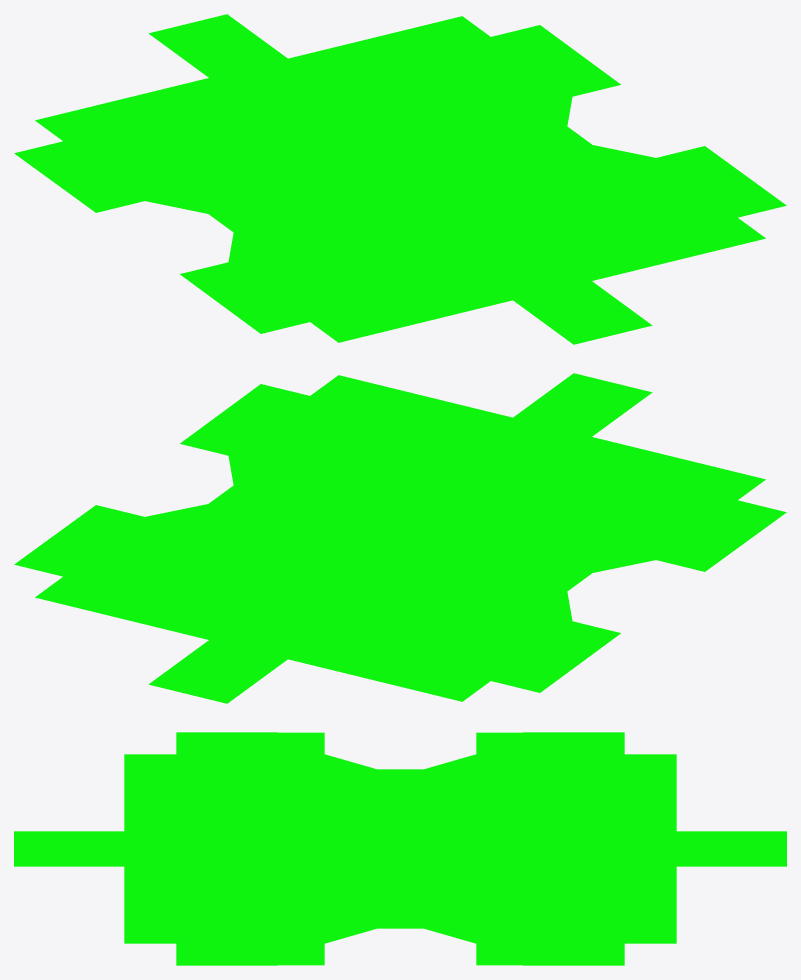
The model's file is s04b_sa1-floor.glb.
The picture shows the model from 3 angles, top to bottom: view 1: azimuth 30°, elevation 25°; view 2: azimuth 150°, elevation 25°; view 3: azimuth 270°, elevation 25°; orthographic projection. The views are drawn at different scales.
Parts seen in each view (by area): view 1: collision_floor-colonly; view 2: collision_floor-colonly; view 3: collision_floor-colonly.
Boxes of the visible parts, x1,y1,x2,y2 form: collision_floor-colonly: [14, 14, 786, 344]; collision_floor-colonly: [14, 373, 786, 703]; collision_floor-colonly: [14, 732, 786, 965].
Size of the model in its own units: 39.98 by 0 by 56.
